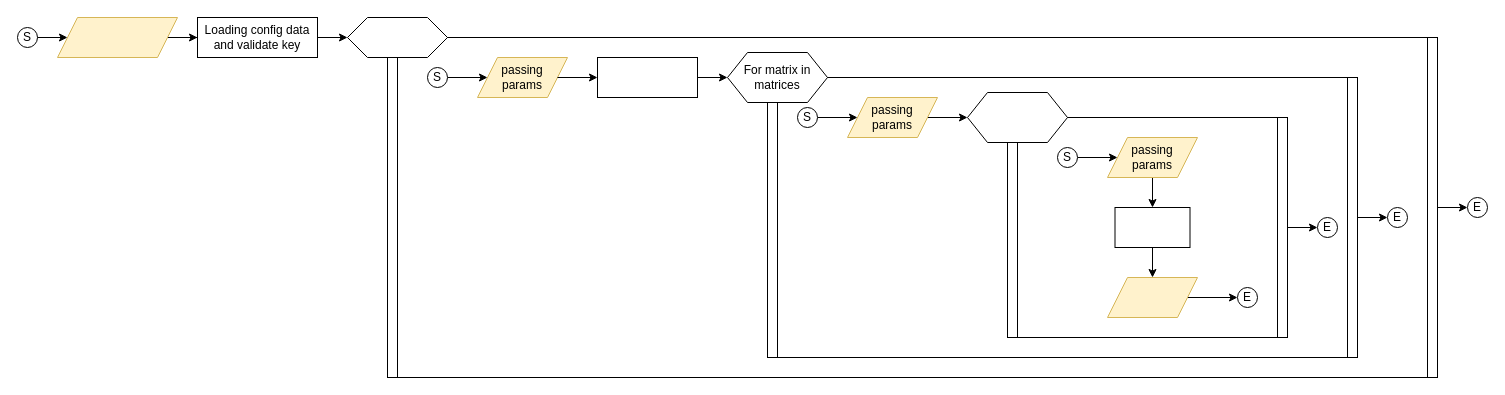
The diagram is 1505 pixels wide and 395 high, and some of its shapes have lost their labels. Each missing label, with the box of its shape:
For job in jobs: (346, 16, 448, 58)
For stage in stages: (966, 92, 1068, 142)
Generate Metrix values: (596, 56, 698, 98)
keeping result: (1106, 276, 1198, 318)
passing name, params: (56, 16, 178, 58)
Stage Execution: (1114, 206, 1190, 248)
